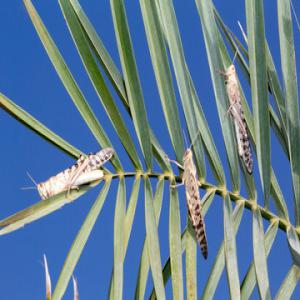locust: (165, 112, 222, 256), (219, 51, 271, 176), (24, 141, 117, 202)
